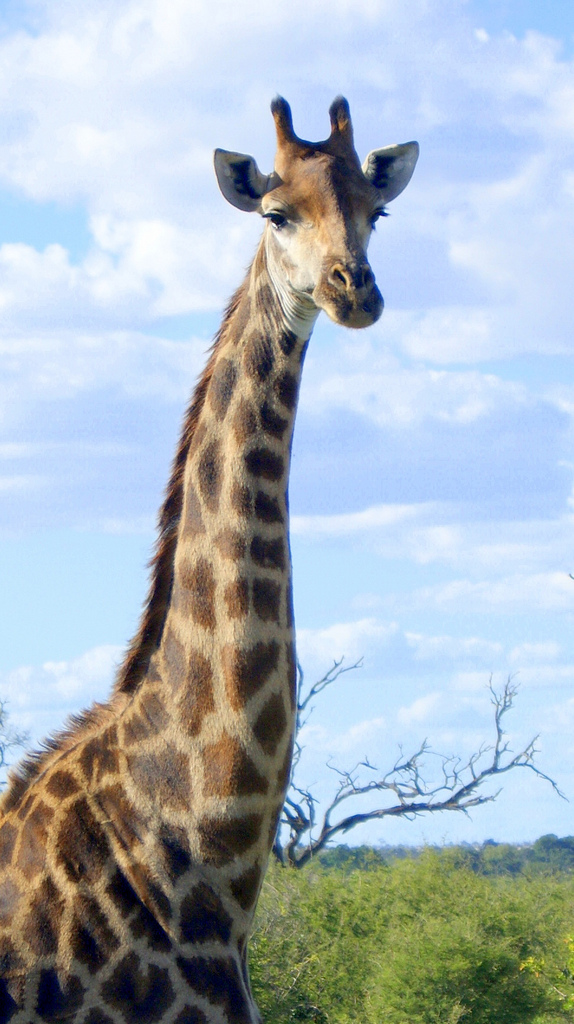giraffe: (33, 90, 451, 1001)
